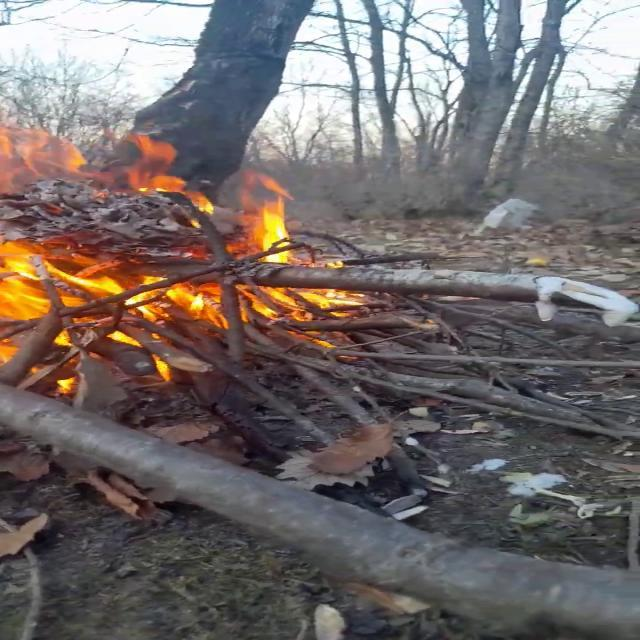Fire: (4, 161, 356, 367)
